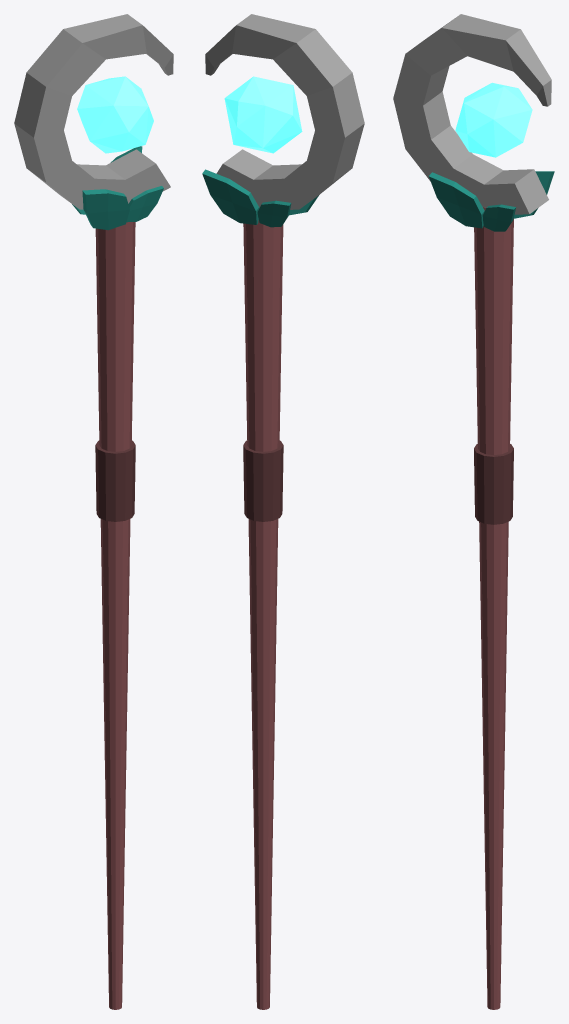
Rendered from staff.fbx.
3 renders of one model, left to right at view 1: azimuth 30°, elevation 25°; view 2: azimuth 150°, elevation 25°; view 3: azimuth 330°, elevation 25°, orthographic.
Visible parts, largest first — view 1: Cylinder.022; view 2: Cylinder.022; view 3: Cylinder.022.
Boxes of the visible parts, <box> form: Cylinder.022: <box>14,14,173,1009</box>; Cylinder.022: <box>202,14,364,1009</box>; Cylinder.022: <box>393,14,554,1009</box>.
Bounding box in the file's own units: 42.1 × 268 × 19.81.
